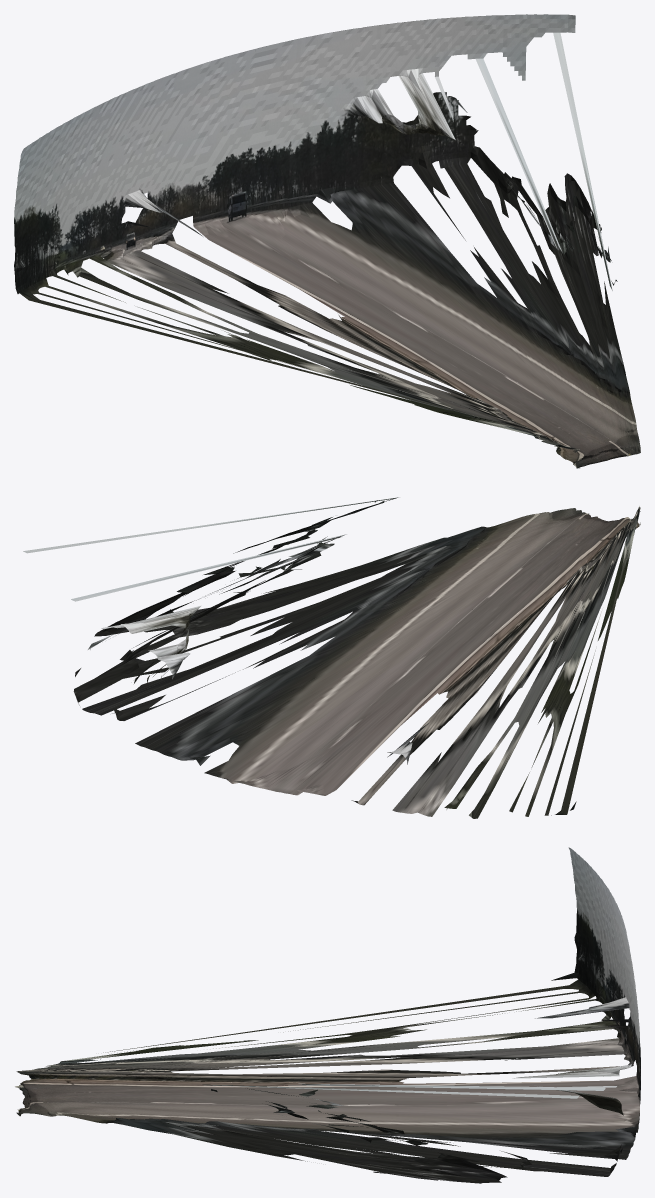
3 views of the same model, one above another, from view 1: azimuth 30°, elevation 25°; view 2: azimuth 150°, elevation 25°; view 3: azimuth 270°, elevation 25° (orthographic). The views are drawn at different scales.
Parts seen in each view (by area): view 1: defaultobject; view 2: defaultobject; view 3: defaultobject.
Part boxes in pixels (x1,y1,x2,y2): defaultobject: [14, 14, 640, 468]; defaultobject: [23, 497, 640, 818]; defaultobject: [15, 847, 640, 1183].
Size of the model in its own units: 40.89 by 12.46 by 44.78.
Materials: 1 (1 with a texture image).
